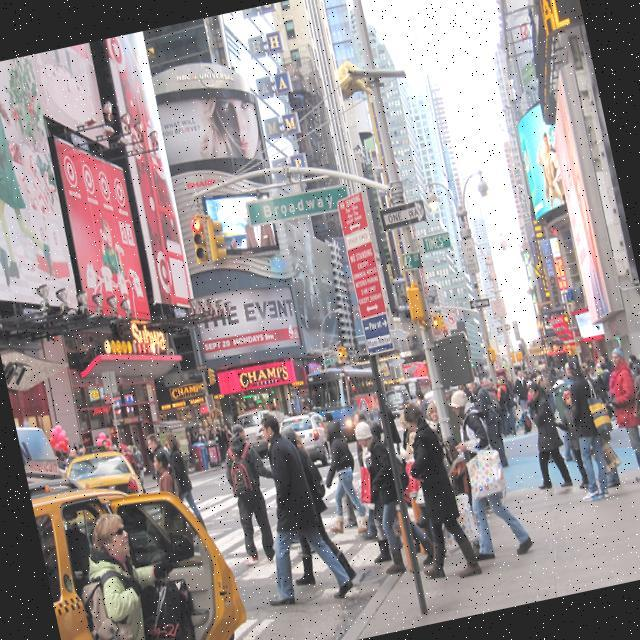fire_hydrant: (407, 486, 432, 542)
